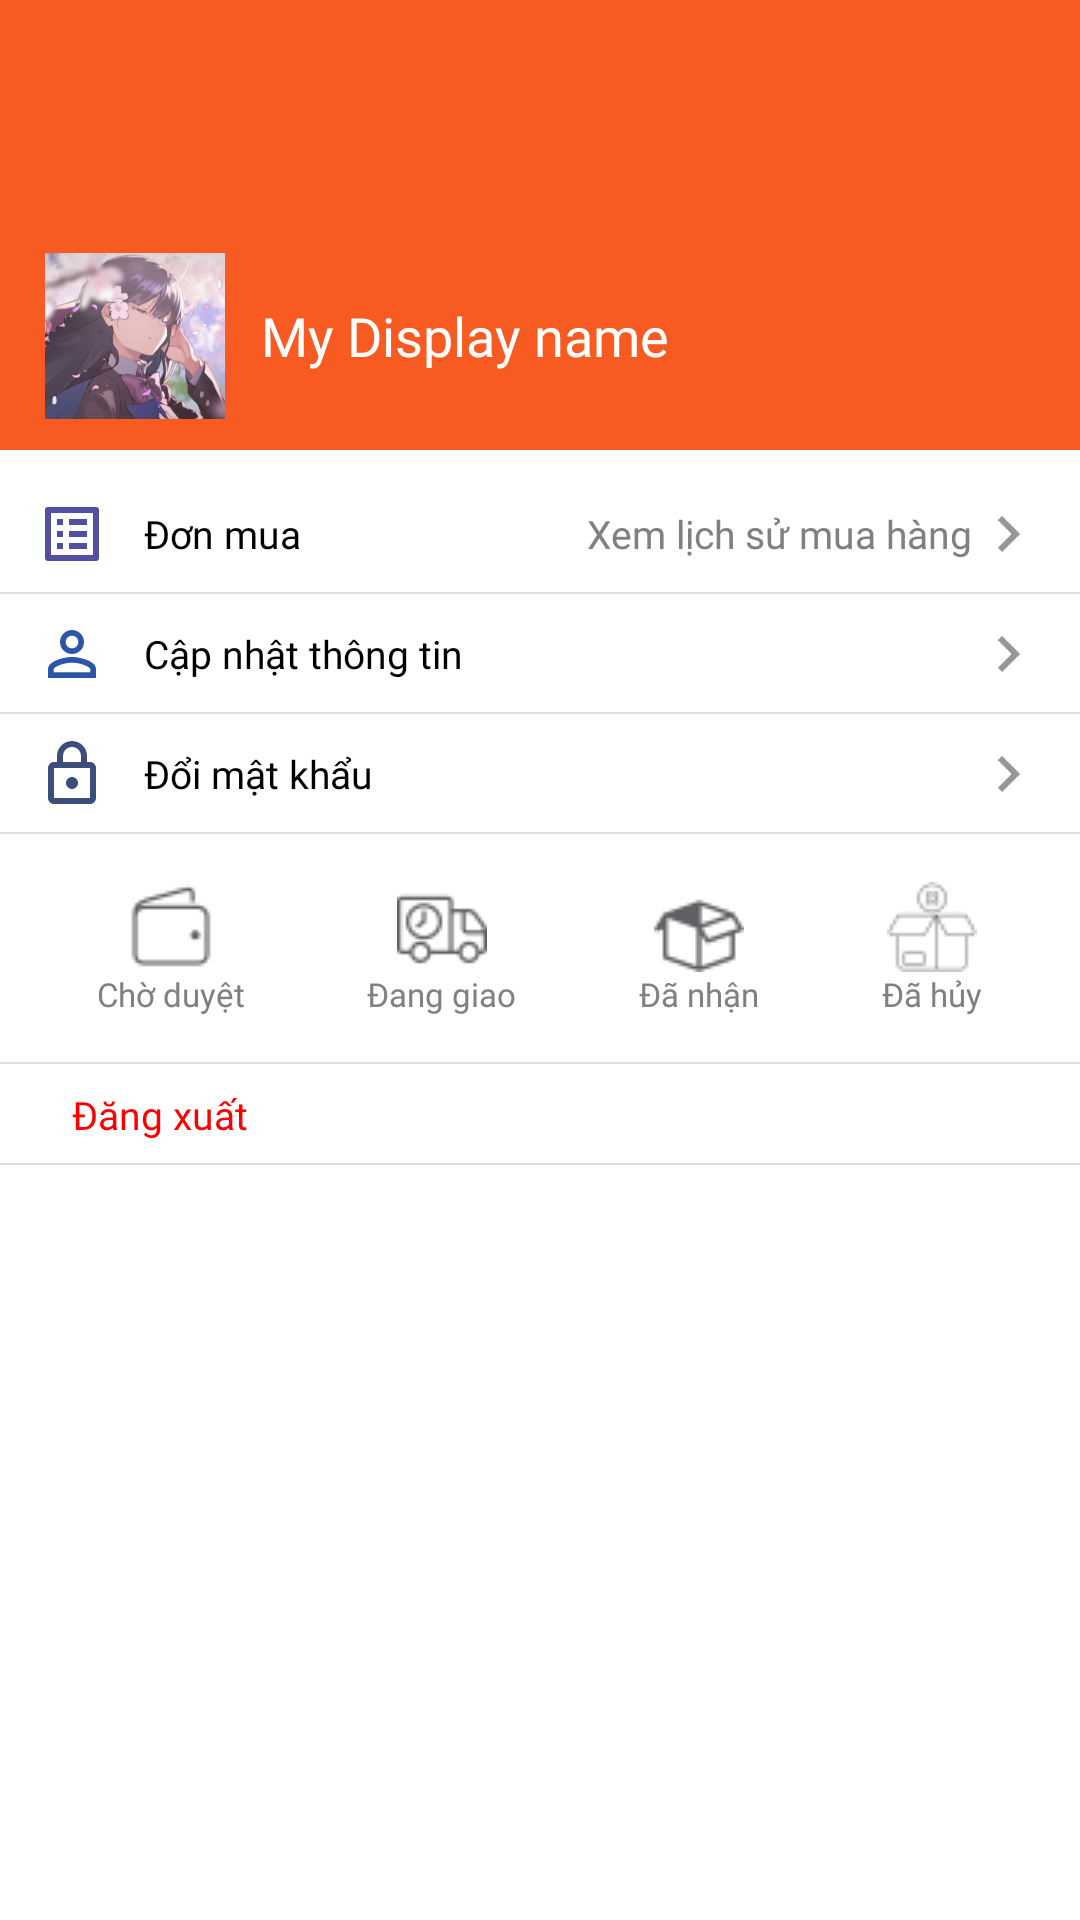

Where to tap for icons on this 1080 × 1920 app screen, as (x=x, y=y):
box: (x=699, y=935)
delivery: (x=442, y=929)
keyboard arrow right: (x=1009, y=534), (x=1009, y=654), (x=1009, y=774)
list: (x=72, y=534)
lock: (x=72, y=772)
person: (x=72, y=654)
wallet: (x=171, y=927)
